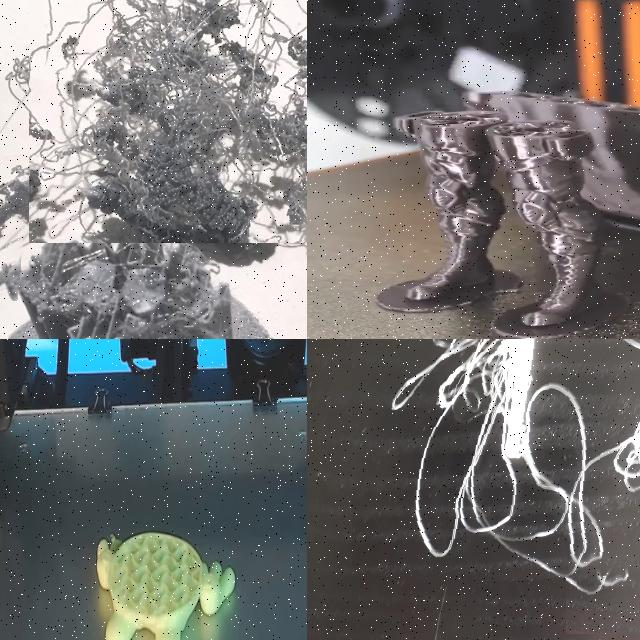spaghetti: (29, 0, 307, 243), (385, 339, 535, 584), (566, 398, 640, 634), (0, 165, 31, 306)
